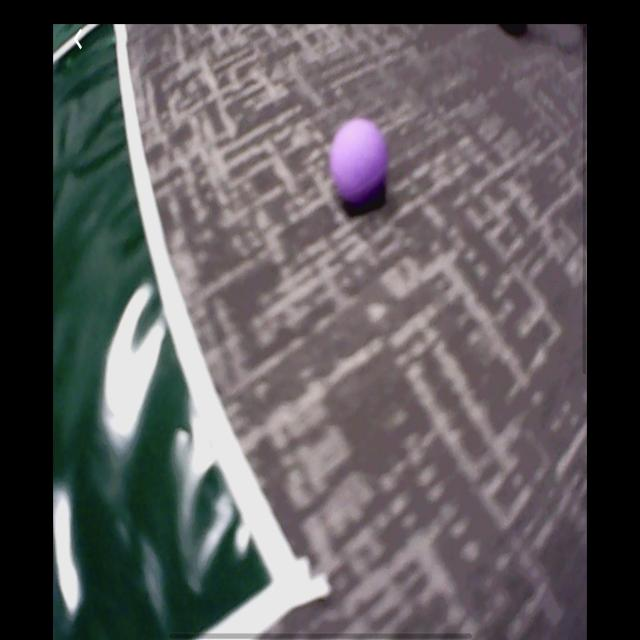ball: (329, 116, 390, 212)
